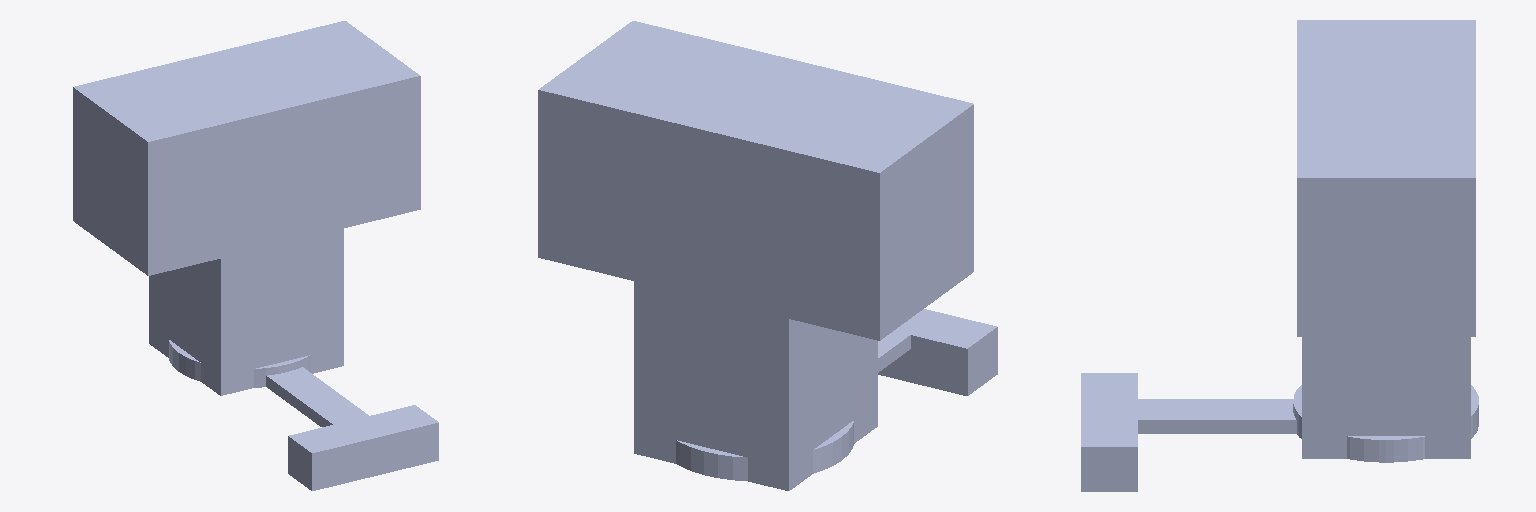
robot.urdf — gripper_cam:
<?xml version="1.0" encoding="utf-8"?>
<!-- This URDF was automatically created by SolidWorks to URDF Exporter! Originally created by Stephen Brawner (brawner@gmail.com) 
     Commit Version: 1.6.0-1-g15f4949  Build Version: 1.6.7594.29634
     For more information, please see http://wiki.ros.org/sw_urdf_exporter -->
<robot
  name="gripper_cam">
  <link
    name="gripper_base">
    <inertial>
      <origin
        xyz="2.94902990916057E-17 -0.00347593609793756 0.0804749588726825"
        rpy="0 0 0" />
      <mass
        value="1.18556264669111" />
      <inertia
        ixx="0.00315856893081404"
        ixy="3.91328257794873E-20"
        ixz="-7.67804847961664E-19"
        iyy="0.00384483981491747"
        iyz="-0.000344401757016793"
        izz="0.00248878874951792" />
    </inertial>
    <visual>
      <origin
        xyz="0 0 0"
        rpy="0 0 0" />
      <geometry>
        <mesh
          filename="package://aubo_description/mesh/collision/gripper_base.STL" />
      </geometry>
      <material
        name="">
        <color
          rgba="0.792156862745098 0.819607843137255 0.933333333333333 1" />
      </material>
    </visual>
    <collision>
      <origin
        xyz="0 0 0"
        rpy="0 0 0" />
      <geometry>
        <mesh
          filename="package://aubo_description/mesh/collision/gripper_base.STL" />
      </geometry>
    </collision>
  </link>
  <link
    name="gripper_cam">
    <inertial>
      <origin
        xyz="1.90819582357449E-17 -0.00361047640408486 0.0833963083414522"
        rpy="0 0 0" />
      <mass
        value="1.141384" />
      <inertia
        ixx="0.00288071158391885"
        ixy="1.94349640956511E-19"
        ixz="-3.54277854626553E-19"
        iyy="0.0035675369005515"
        iyz="-0.000356440462896624"
        izz="0.00245717120603402" />
    </inertial>
    <visual>
      <origin
        xyz="0 0 0"
        rpy="0 0 0" />
      <geometry>
        <mesh
          filename="package://aubo_description/mesh/collision/gripper_cam.STL" />
      </geometry>
      <material
        name="">
        <color
          rgba="0.792156862745098 0.819607843137255 0.933333333333333 1" />
      </material>
    </visual>
    <collision>
      <origin
        xyz="0 0 0"
        rpy="0 0 0" />
      <geometry>
        <mesh
          filename="package://aubo_description/mesh/collision/gripper_cam.STL" />
      </geometry>
    </collision>
  </link>
  <joint
    name="gripper_joint"
    type="fixed">
    <origin
      xyz="0 0 0"
      rpy="0 0 0" />
    <parent
      link="gripper_base" />
    <child
      link="gripper_cam" />
    <axis
      xyz="0 0 0" />
  </joint>
</robot>

--- Facts derived from the render (not from the file) ---
Views: 3 orthographic renders of the robot side by side, from view 1: azimuth 30°, elevation 25°; view 2: azimuth 150°, elevation 25°; view 3: azimuth 270°, elevation 25°.
Model gripper_cam with 2 links and 1 joints (1 fixed), rooted at gripper_base, posed all joints at 0.
Links seen in each view (by area): view 1: gripper_cam, gripper_base; view 2: gripper_cam, gripper_base; view 3: gripper_cam, gripper_base.
Boxes of the visible links, x1=… form: gripper_cam: x1=73, y1=21, x2=438, y2=490; gripper_base: x1=169, y1=340, x2=310, y2=387; gripper_cam: x1=538, y1=21, x2=997, y2=490; gripper_base: x1=676, y1=421, x2=853, y2=480; gripper_cam: x1=1081, y1=20, x2=1475, y2=491; gripper_base: x1=1293, y1=385, x2=1478, y2=462.
Bounding box of the posed robot: 0.15 × 0.1605 × 0.158 m (x, y, z).
Meshes: 2 distinct files referenced, 2 mesh visuals loaded (2 binary STL).
